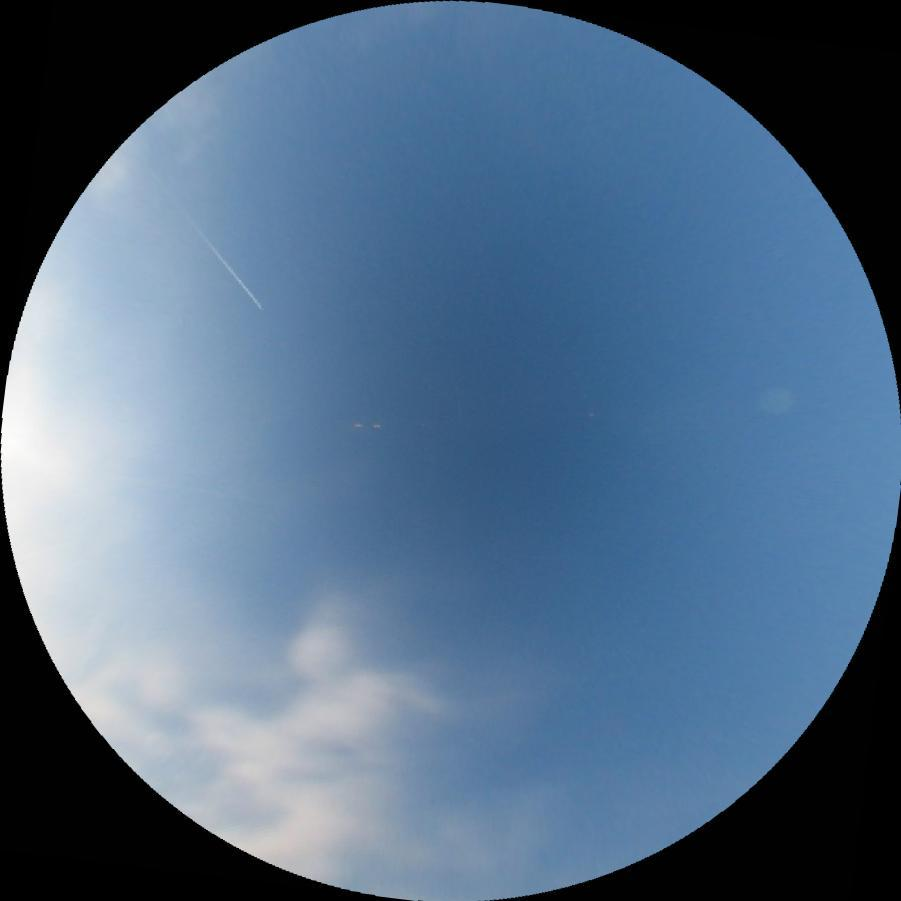contrail young: (190, 224, 264, 311)
